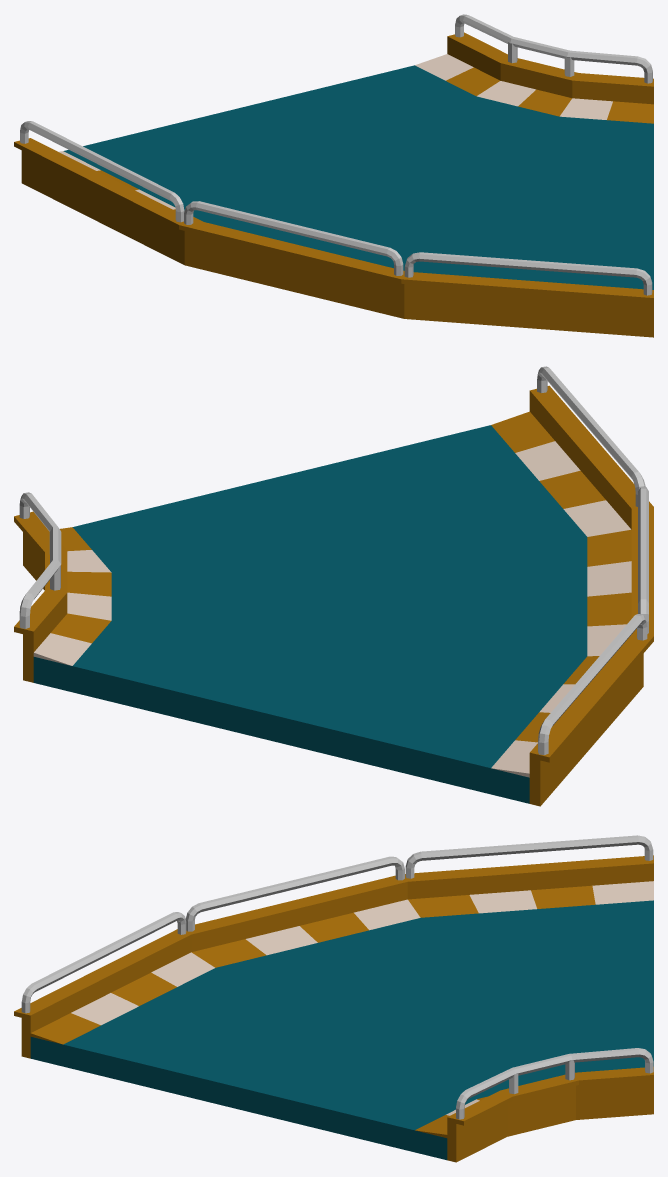
Rendered from curveLeft-60_s.FBX.
3 renders of one model, top to bottom at view 1: azimuth 30°, elevation 25°; view 2: azimuth 150°, elevation 25°; view 3: azimuth 270°, elevation 25°, orthographic. The views are drawn at different scales.
Parts seen in each view (by area): view 1: curveLeft-60_s, wall_r, wall_l, curbs_l, curbs_r; view 2: curveLeft-60_s, wall_r, curbs_r, wall_l, curbs_l; view 3: curveLeft-60_s, wall_r, curbs_r, wall_l, curbs_l.
Boxes of the visible parts, box(x1,y1,x2,y2) form: curveLeft-60_s: box(63, 65, 653, 289); wall_r: box(14, 121, 653, 337); wall_l: box(447, 14, 653, 104); curbs_l: box(415, 54, 653, 123); curbs_r: box(58, 151, 202, 221); curveLeft-60_s: box(33, 425, 587, 803); wall_r: box(529, 366, 653, 806); curbs_r: box(491, 411, 631, 777); wall_l: box(14, 492, 67, 682); curbs_l: box(33, 527, 111, 665); curveLeft-60_s: box(30, 900, 653, 1160); wall_r: box(14, 835, 653, 1058); curbs_r: box(30, 881, 653, 1044); wall_l: box(447, 1048, 653, 1162); curbs_l: box(415, 1096, 487, 1137).
Size of what is drawn, in the model's own units: 251 by 29.31 by 255.
